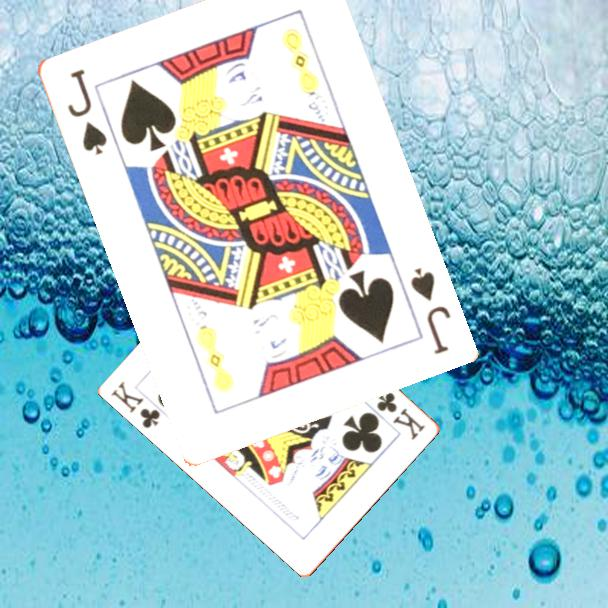c13: (373, 389, 429, 443), (108, 378, 163, 431)
s11: (406, 263, 453, 357), (63, 65, 110, 158)
